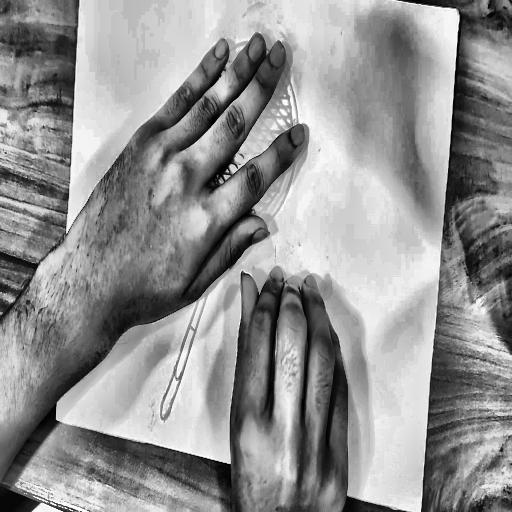badminton: (128, 15, 383, 477)
bottom_left: (52, 409, 61, 426)
top_right: (455, 4, 463, 20)
